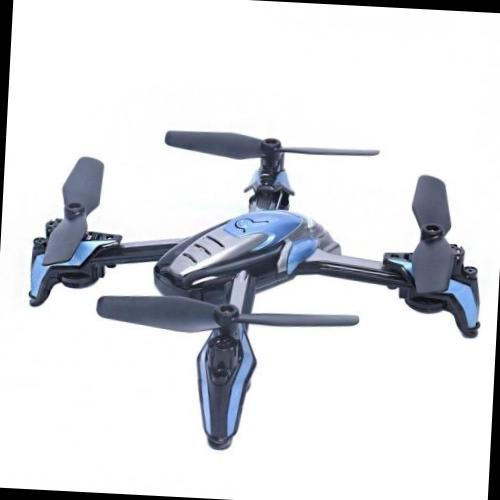drone: (0, 122, 483, 428)
